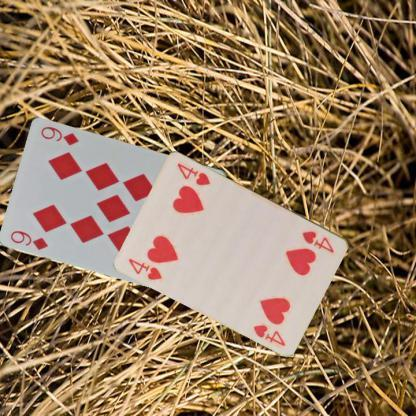4h: (126, 256, 164, 282), (299, 228, 336, 254)
9d: (8, 228, 50, 252)
